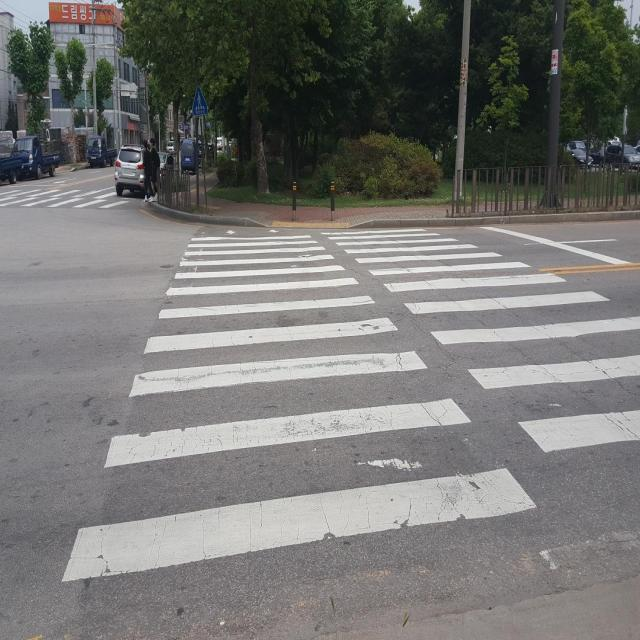횡단보도: (61, 225, 640, 583), (0, 186, 139, 213)
